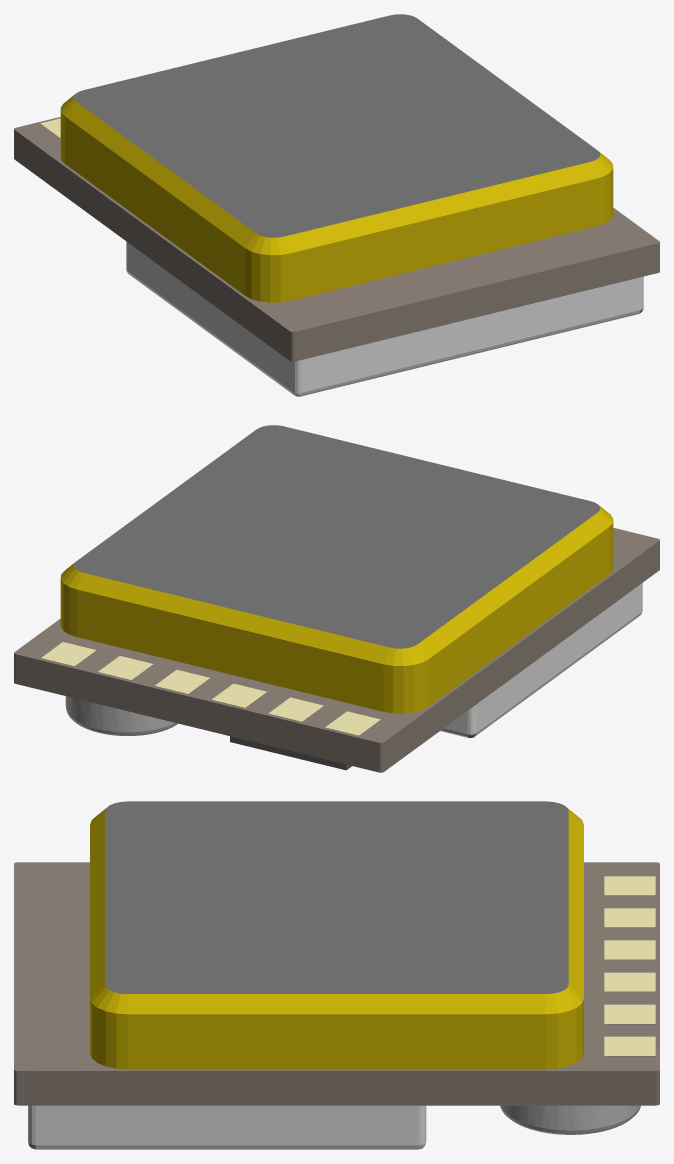
Rendered from model_foxeer_m10q_120-D9ir97ab.glb.
The picture shows the model from 3 angles, top to bottom: view 1: azimuth 30°, elevation 25°; view 2: azimuth 150°, elevation 25°; view 3: azimuth 270°, elevation 25°; orthographic projection. The views are drawn at different scales.
Bounding box in the file's own units: 13 × 4.6 × 17.
